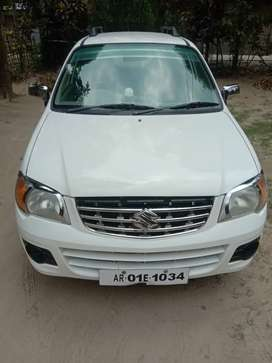AR01E1034: (99, 267, 188, 286)
